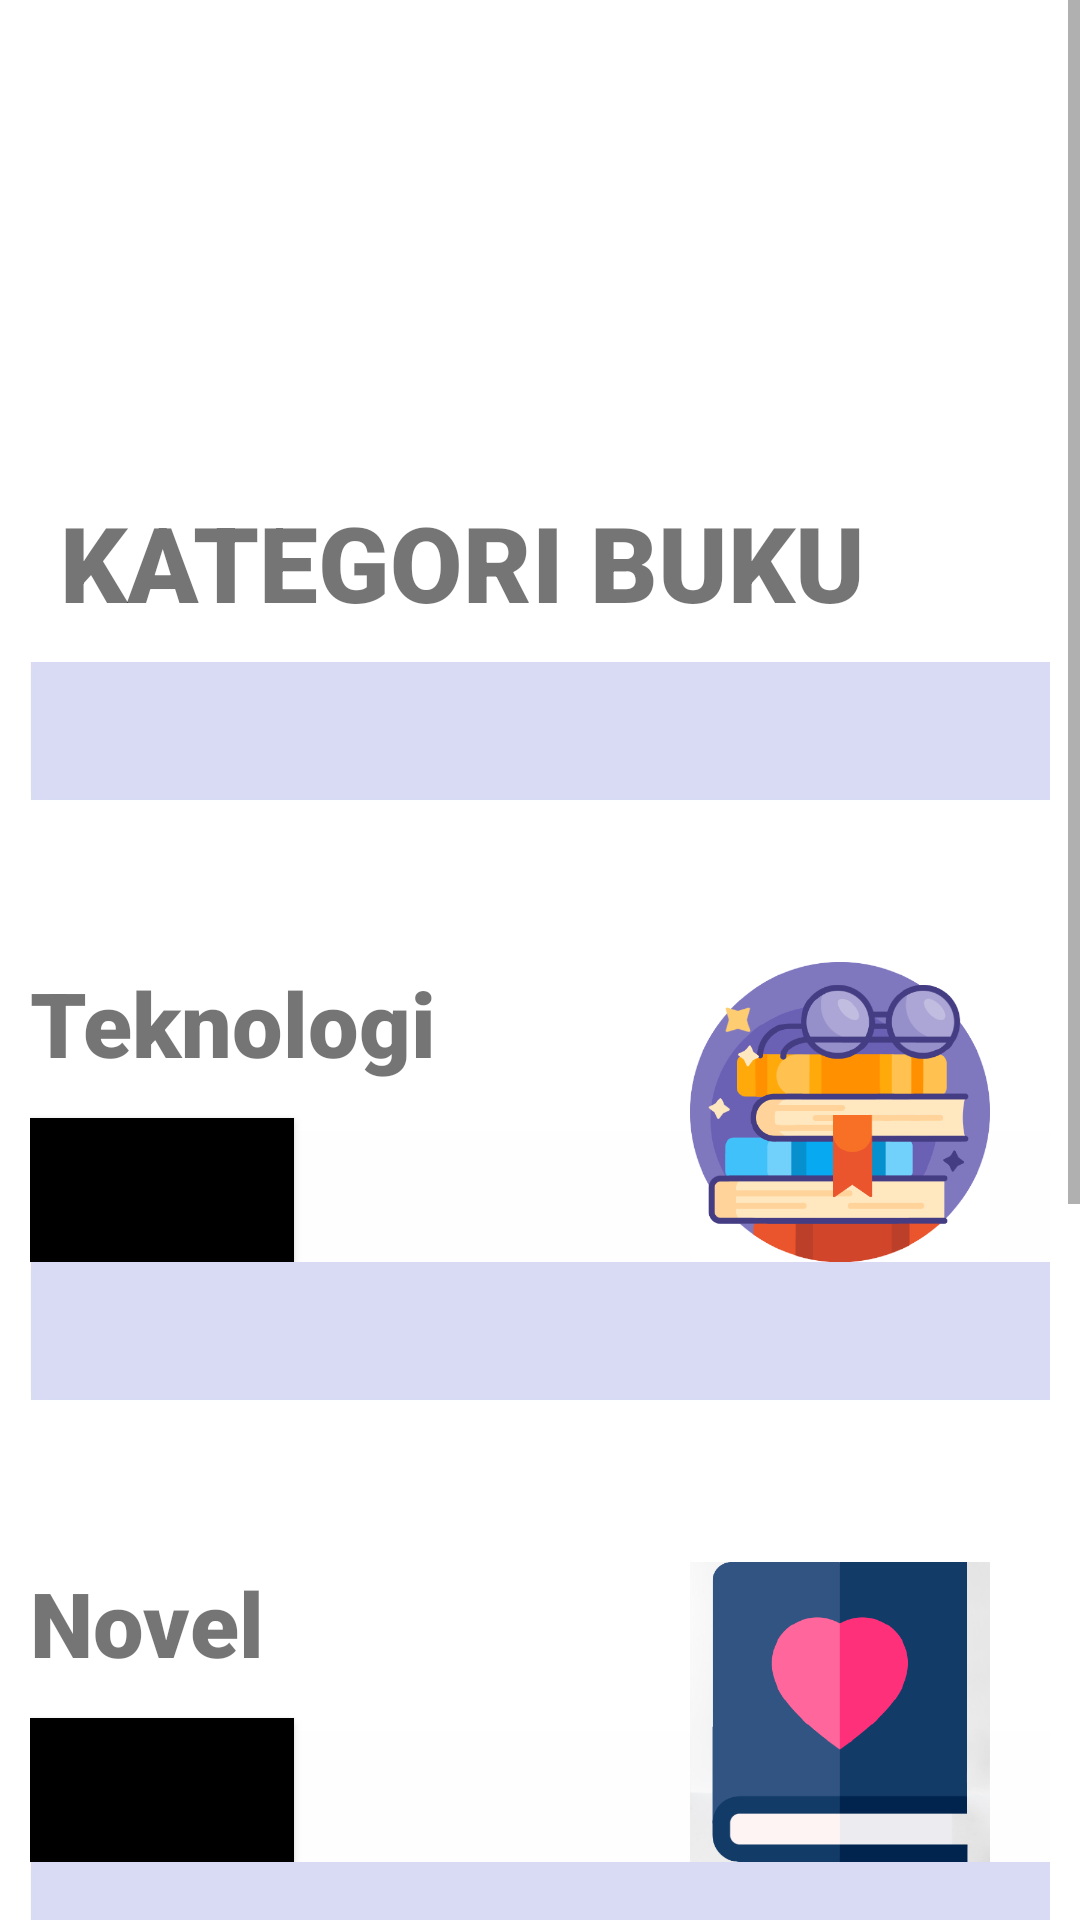

Icon click points for this 1080px×1920px phone screenshot, format point (x, y):
novel: point (851, 1712)
